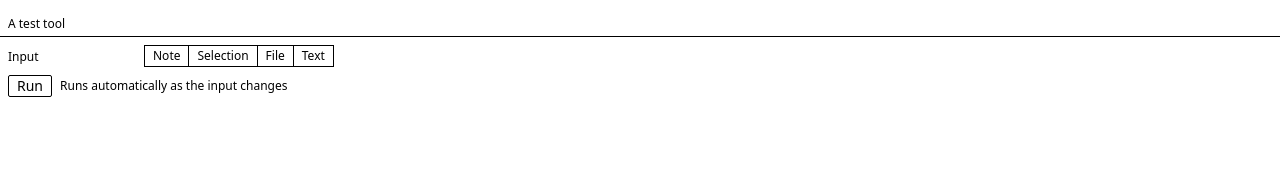
does not offer text replacement for invalid UTF-8 bytes
Step 1. Click the button named "run" → (30, 86), box [8,75,52,97]
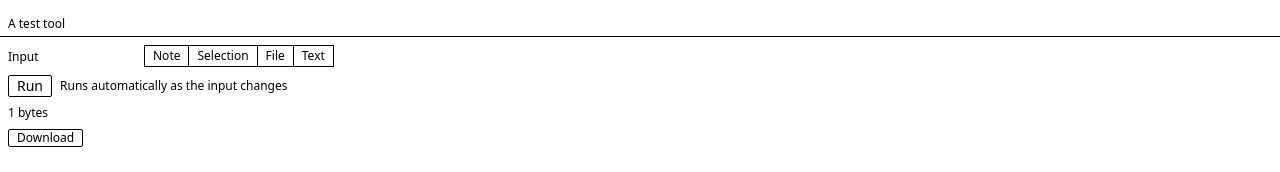
Check: the text "1 bytes" is shown, box [8,104,48,121]
